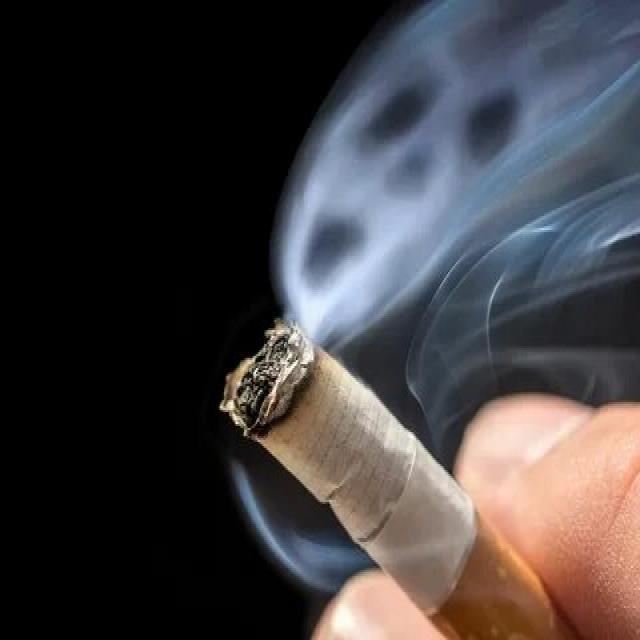cigarette: (214, 302, 586, 640)
